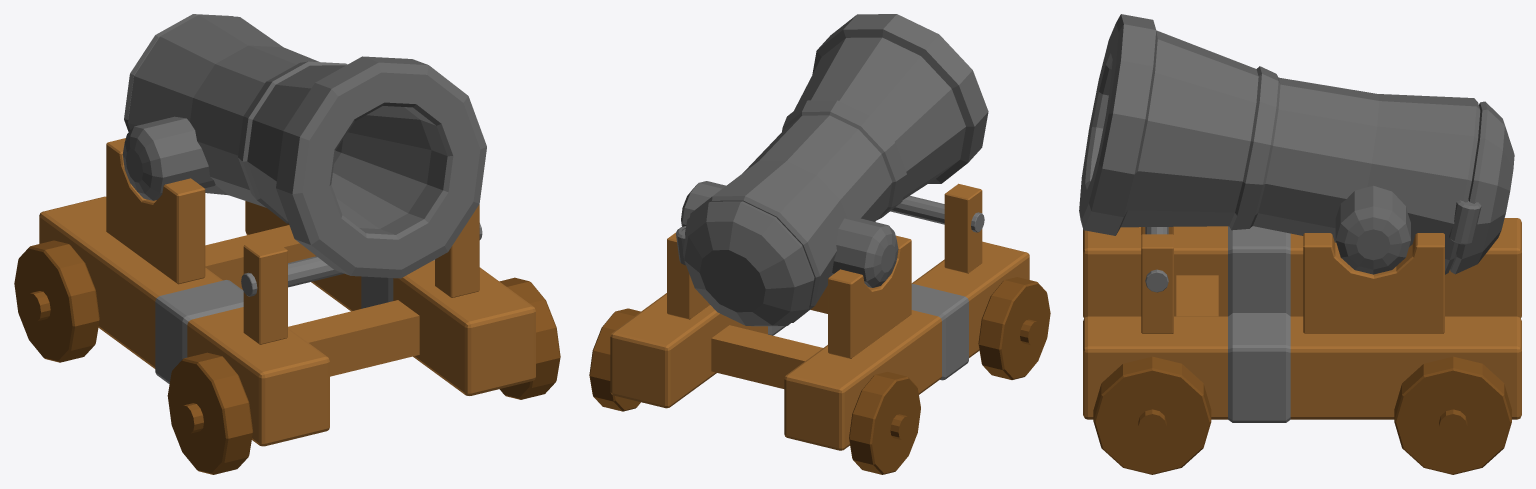
The model's file is cannon.obj.
3 renders of one model, left to right at view 1: azimuth 30°, elevation 25°; view 2: azimuth 150°, elevation 25°; view 3: azimuth 270°, elevation 25°, orthographic. The views are drawn at different scales.
Parts seen in each view (by area): view 1: Cylinder.001_Cylinder.003, Cylinder.002_Cylinder.005; view 2: Cylinder.001_Cylinder.003, Cylinder.002_Cylinder.005; view 3: Cylinder.001_Cylinder.003, Cylinder.002_Cylinder.005.
Part boxes in pixels (x1,y1,x2,y2): Cylinder.001_Cylinder.003: (14, 15, 560, 474); Cylinder.002_Cylinder.005: (124, 14, 233, 131); Cylinder.001_Cylinder.003: (589, 14, 1050, 474); Cylinder.002_Cylinder.005: (683, 201, 814, 326); Cylinder.001_Cylinder.003: (1079, 14, 1521, 474); Cylinder.002_Cylinder.005: (1450, 101, 1514, 274).
Size of the model in its own units: 1.04 by 1.06 by 1.14.
1 material, 1 textured.
